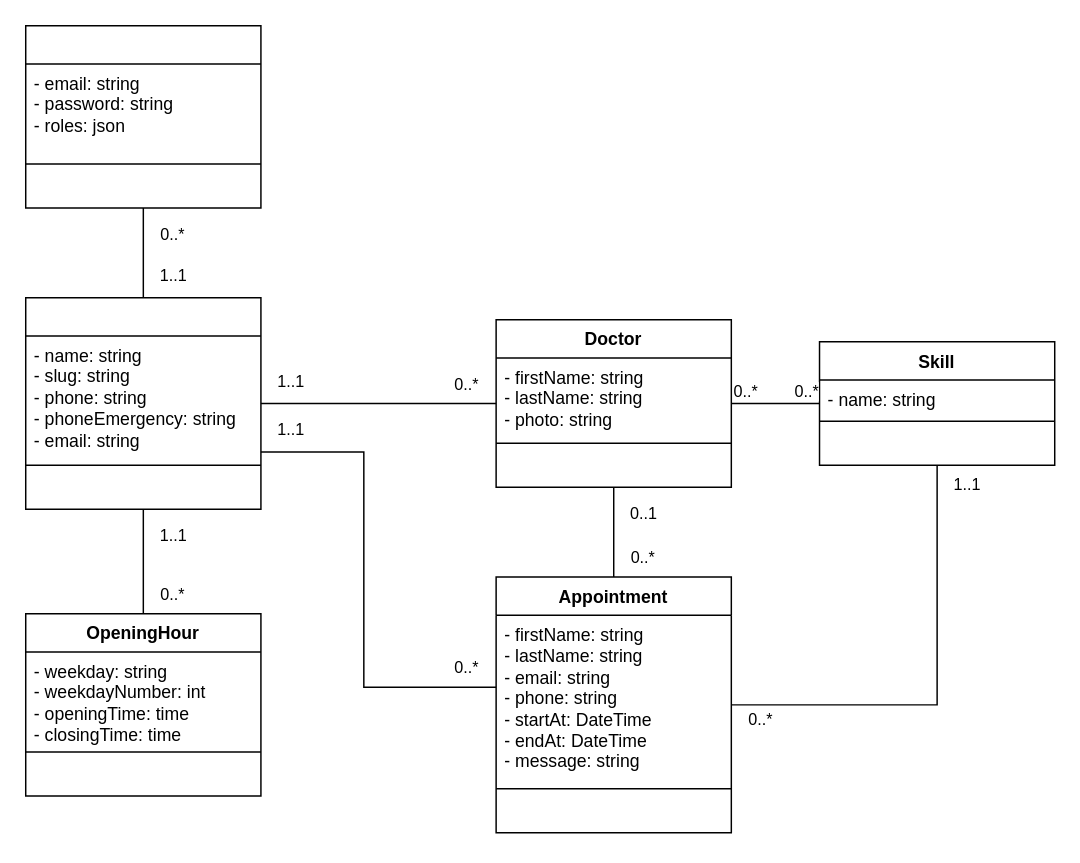
Image size: 1080x863. Some labels were removed from this diagram. The box of each missing label's shape, as (x1, y1, x2, y2) in pixels:
HealthcareCenter: (24, 296, 261, 509)
User: (24, 24, 261, 208)
